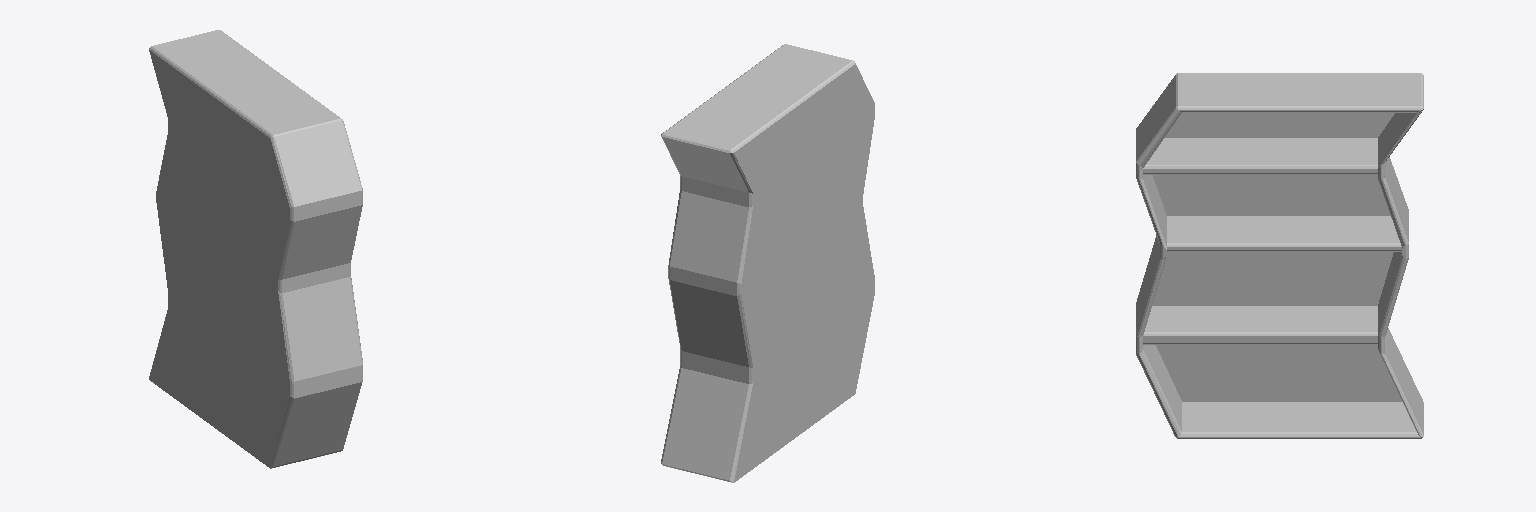
Rendered from shelf only.obj.
3 renders of one model, left to right at view 1: azimuth 30°, elevation 25°; view 2: azimuth 150°, elevation 25°; view 3: azimuth 270°, elevation 25°, orthographic.
Parts seen in each view (by area): view 1: shelf; view 2: shelf; view 3: shelf.
Part boxes in pixels (x1,y1,x2,y2): shelf: (149,30,362,468); shelf: (661,44,874,482); shelf: (1136,73,1423,438).
Bounding box in the file's own units: 1.59 × 6.94 × 5.45.